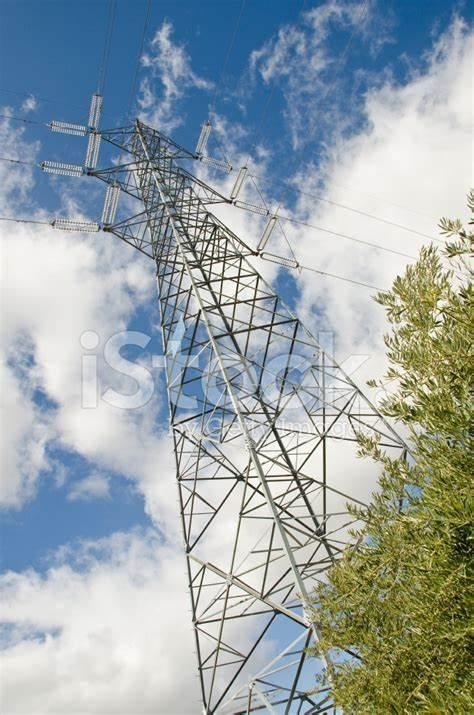power_tower: (39, 90, 444, 714)
